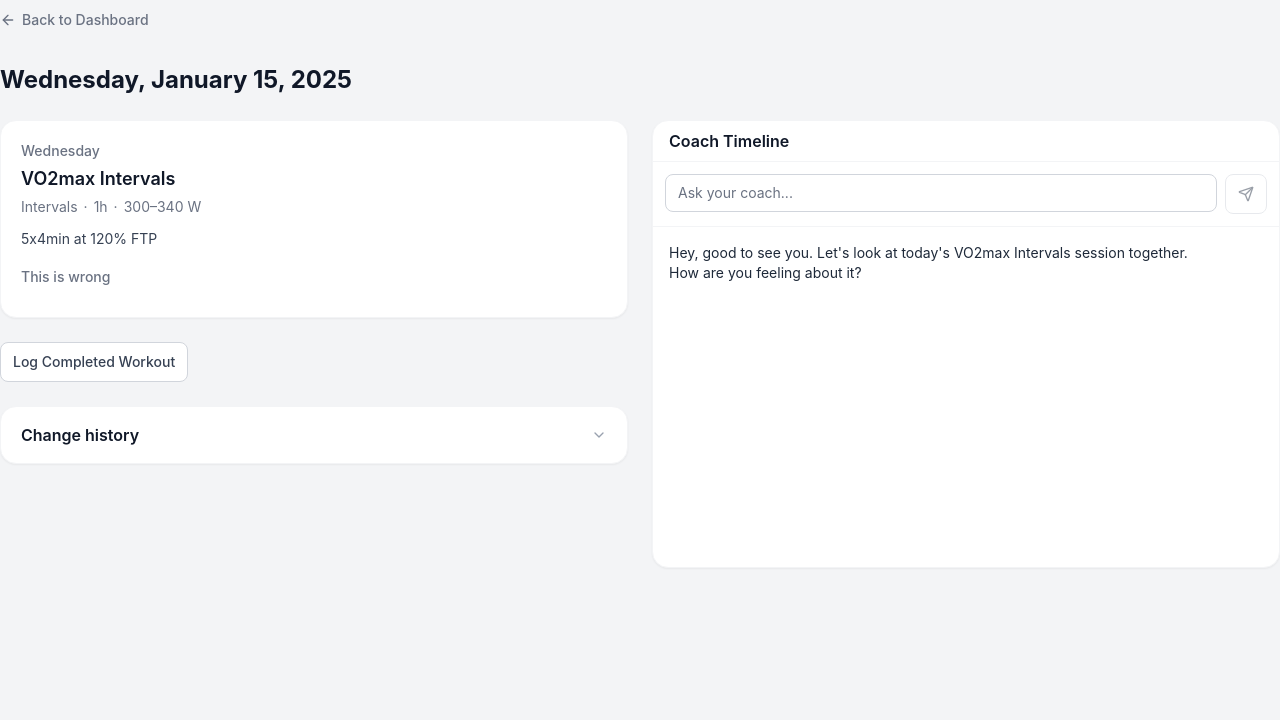
Scenario: WorkoutPage › shows the workout feedback form after clicking Log Completed Workout
Step 1. Click the button "Log Completed Workout" → [94, 362], box [0,342,188,382]
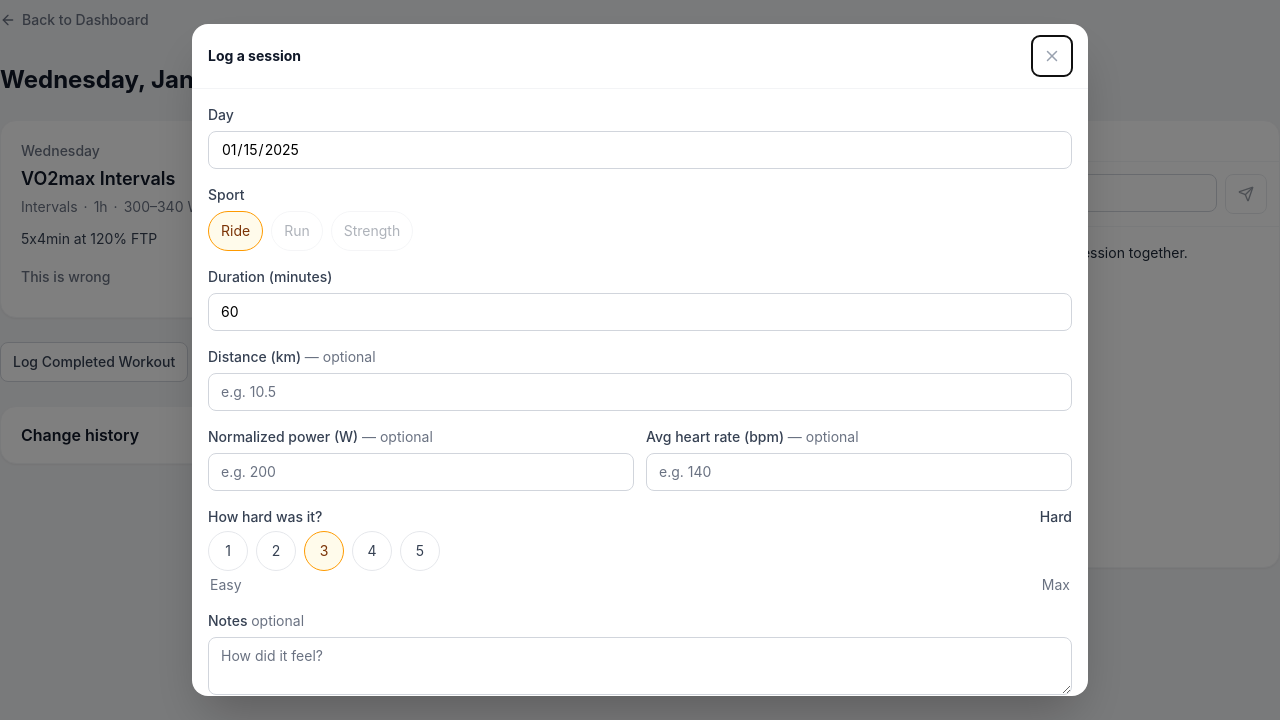
Check: the heading "Log a session" is shown, box [208,46,301,66]
Check: the text "Duration (minutes)" is shown, box [208,268,332,285]
